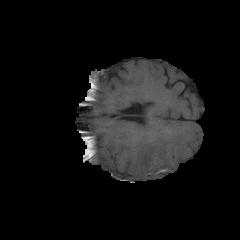glioma: (126, 126, 195, 176)
